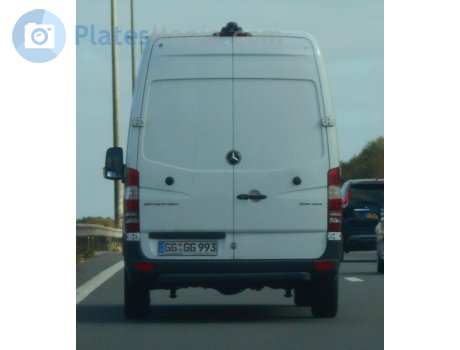License Plates: (163, 242, 215, 251)
